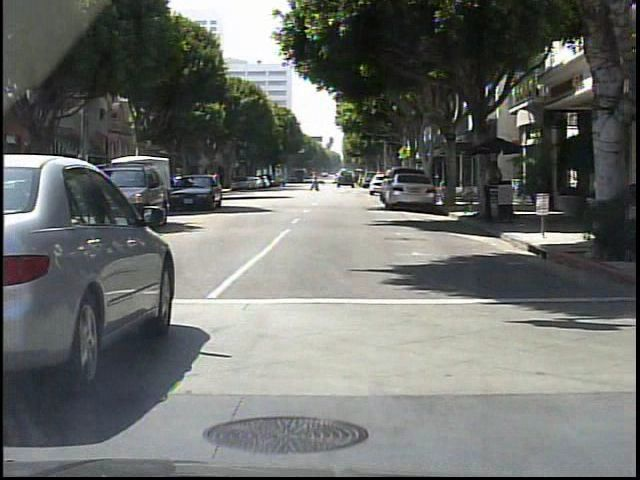person: (485, 160, 505, 223), (599, 164, 616, 237), (311, 174, 322, 194)
